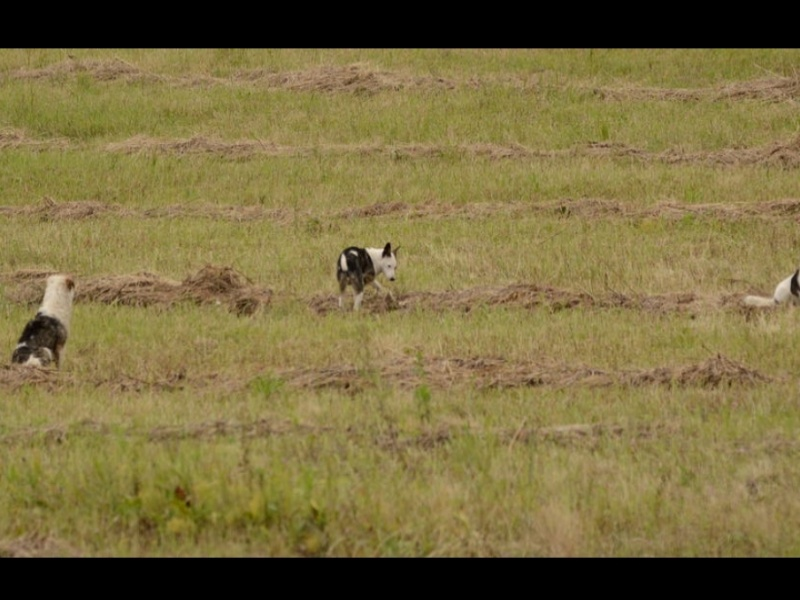dog: (11, 274, 82, 379), (325, 238, 404, 316)
